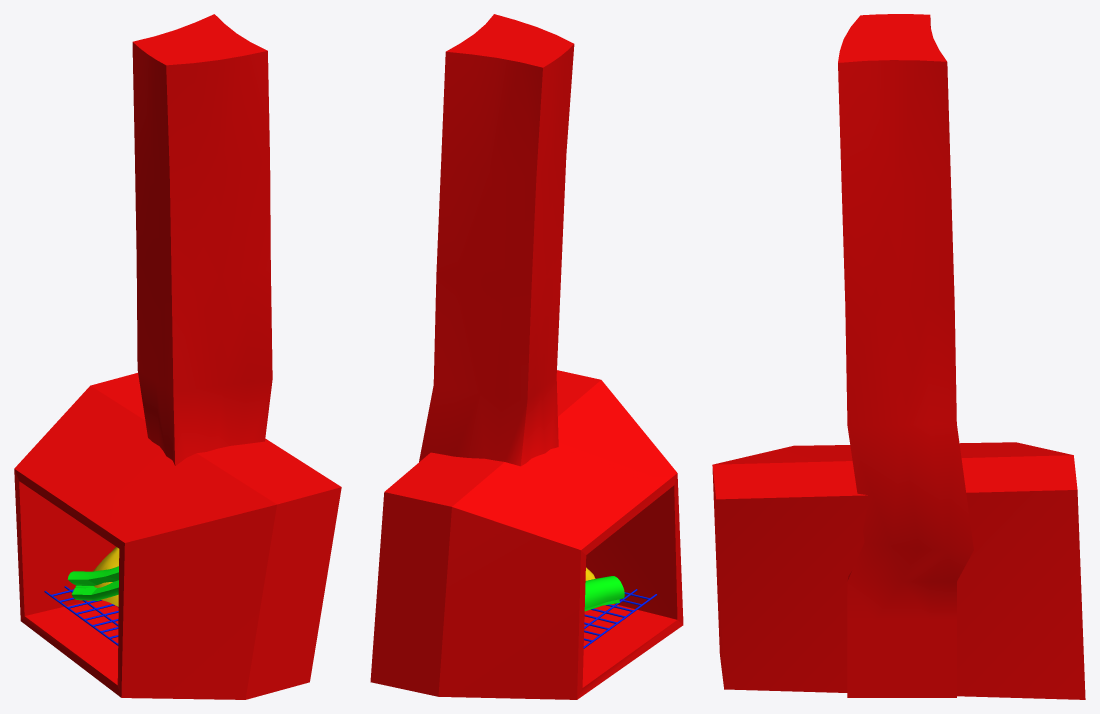
The model's file is Cheminée.FBX.
The picture shows the model from 3 angles, left to right: view 1: azimuth 30°, elevation 25°; view 2: azimuth 150°, elevation 25°; view 3: azimuth 270°, elevation 25°; orthographic projection. The views are drawn at different scales.
Parts seen in each view (by area): view 1: Cheminée001; view 2: Cheminée001; view 3: Cheminée001.
Part boxes in pixels (bbox=[...]): Cheminée001: bbox=[14, 14, 341, 699]; Cheminée001: bbox=[370, 14, 683, 699]; Cheminée001: bbox=[712, 14, 1085, 699].
Size of the model in its own units: 172 by 509 by 272.
